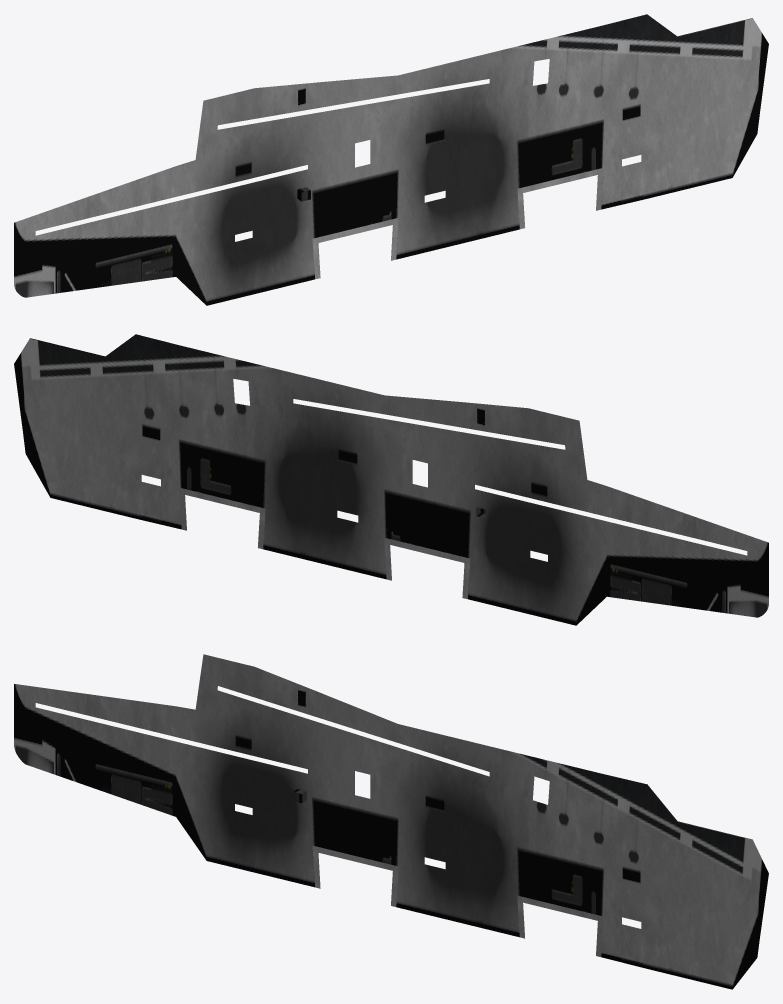
Rendered from cvfFRPont.fbx.
3 renders of one model, top to bottom at view 1: azimuth 30°, elevation 25°; view 2: azimuth 150°, elevation 25°; view 3: azimuth 330°, elevation 25°, orthographic.
Parts seen in each view (by area): view 1: ShapeIndexedFaceSet; view 2: ShapeIndexedFaceSet; view 3: ShapeIndexedFaceSet.
Boxes of the visible parts, x1,y1,x2,y2 form: ShapeIndexedFaceSet: (14,14,768,305); ShapeIndexedFaceSet: (14,334,768,625); ShapeIndexedFaceSet: (14,654,768,989).
Size of the model in its own units: 280 by 73.1 by 2.91.
